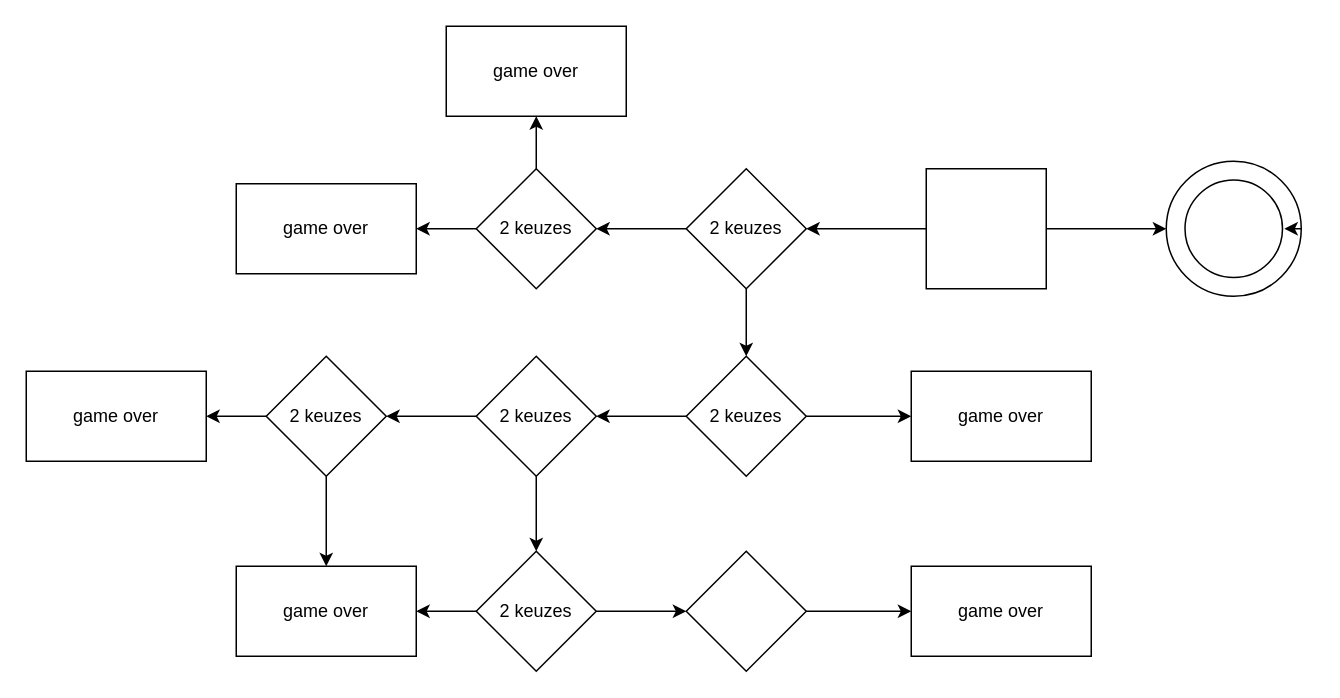
This 1340x698 diagram has some shape labels left out. Each missing label, with the box of its shape:
1 keuzen: (685, 550, 806, 671)
start 2 keuzes: (925, 167, 1046, 289)
you win: (1184, 178, 1282, 278)
